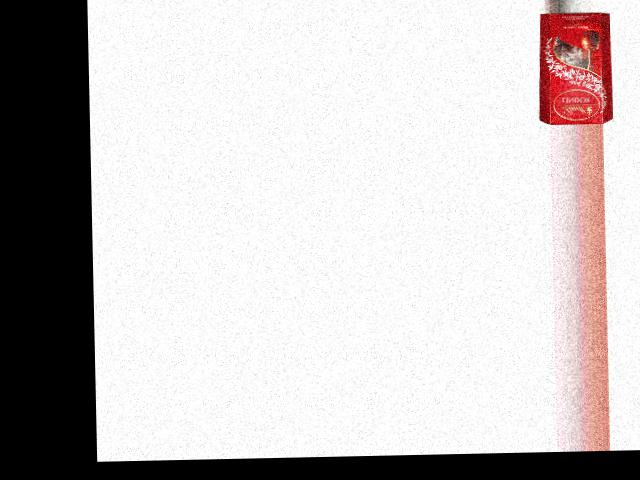chocolate: (535, 11, 618, 124)
